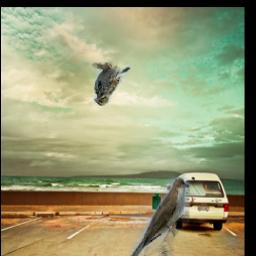Cuckoo: (128, 178, 189, 256)
Sparrow: (92, 63, 130, 107)
